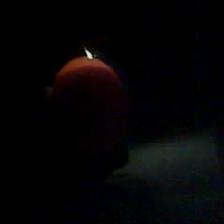fertile: (50, 56, 126, 152)
